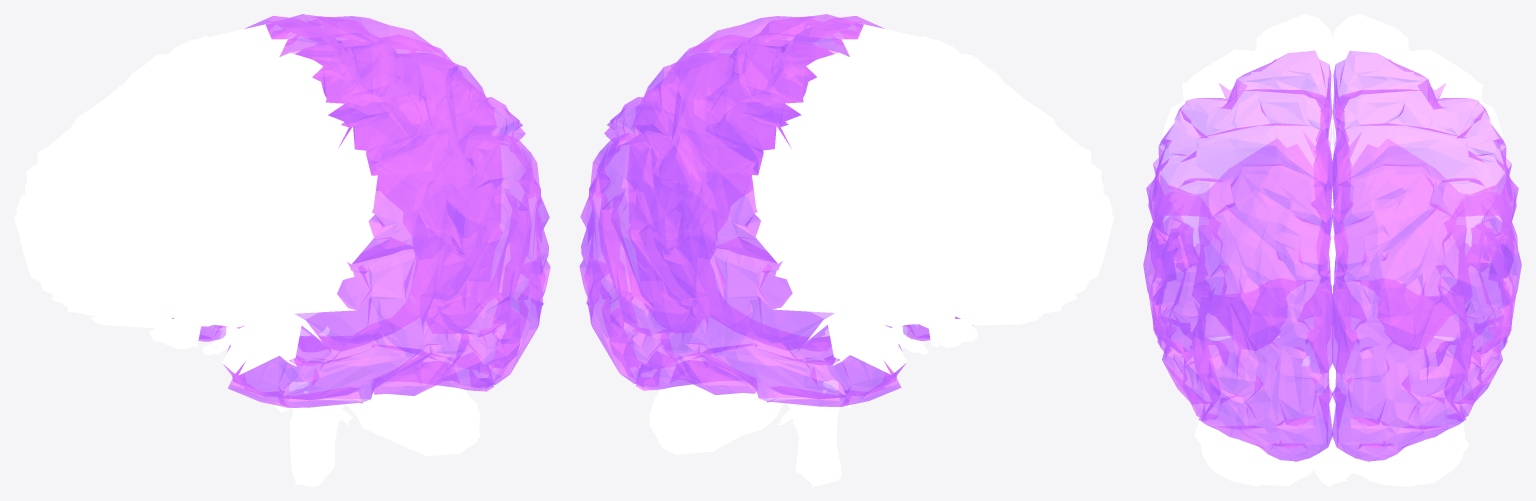
The model's file is brain.glb.
The picture shows the model from 3 angles, left to right: view 1: azimuth 30°, elevation 25°; view 2: azimuth 150°, elevation 25°; view 3: azimuth 270°, elevation 25°; orthographic projection. The views are drawn at different scales.
Visible parts, largest first — view 1: right_08 - Back, right_08 - Front, centr_08 - Default_0, left_08 - Back, left_08 - Front; view 2: left_08 - Back, left_08 - Front, centr_08 - Default_0, right_08 - Back, right_08 - Front; view 3: left_08 - Back, right_08 - Back, centr_08 - Default_0, left_08 - Front, right_08 - Front.
Part boxes in pixels (x1,y1,x2,y2): right_08 - Back: (222, 41, 550, 407); right_08 - Front: (52, 50, 377, 401); centr_08 - Default_0: (90, 191, 480, 486); left_08 - Back: (171, 14, 502, 341); left_08 - Front: (14, 24, 287, 328); left_08 - Back: (579, 41, 906, 406); left_08 - Front: (752, 50, 1076, 401); centr_08 - Default_0: (649, 190, 1041, 486); right_08 - Back: (627, 14, 973, 340); right_08 - Front: (841, 24, 1114, 327); left_08 - Back: (1331, 50, 1521, 461); right_08 - Back: (1143, 50, 1333, 461); centr_08 - Default_0: (1194, 142, 1469, 486); left_08 - Front: (1332, 14, 1511, 340); right_08 - Front: (1153, 14, 1332, 340).
Bounding box in the file's own units: 4 × 3.65 × 2.96.
2 materials, 2 textured.
